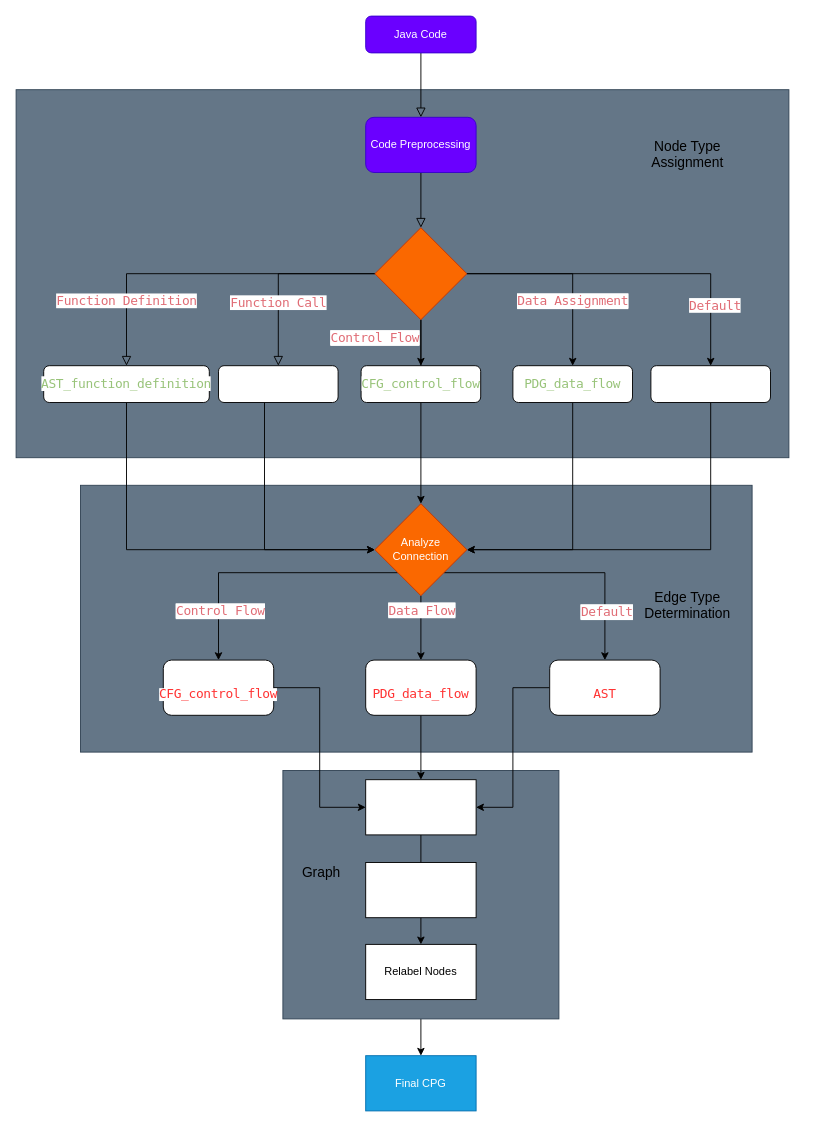
Image size: 833x1127. Some labels were removed from this diagram. The shapes that lost their labels are listed below. From the top down, each one's centre as x and y in pixels, then its label:
the point at 420,273: Analyze Line
the point at 278,383: AST_function_call
the point at 710,383: AST_statement
the point at 420,807: Create MultiDigraph
the point at 420,890: Remove Isolated Nodes
